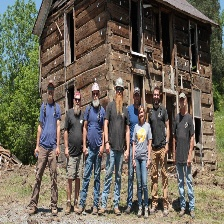helmet: (114, 77, 124, 91), (91, 82, 101, 95)
no-helmet: (132, 85, 142, 100), (177, 92, 187, 104), (73, 88, 82, 101), (151, 85, 161, 96), (47, 78, 55, 90), (138, 105, 144, 117)
no-vest: (105, 101, 131, 155), (171, 113, 193, 164), (38, 100, 58, 153), (85, 102, 105, 153), (66, 104, 84, 158), (149, 106, 169, 149), (128, 102, 142, 148), (134, 122, 149, 163)
person: (35, 75, 62, 221), (103, 74, 127, 214), (148, 86, 171, 218), (174, 92, 198, 217), (80, 83, 102, 216), (123, 83, 142, 214), (65, 87, 84, 209), (134, 107, 153, 218)
